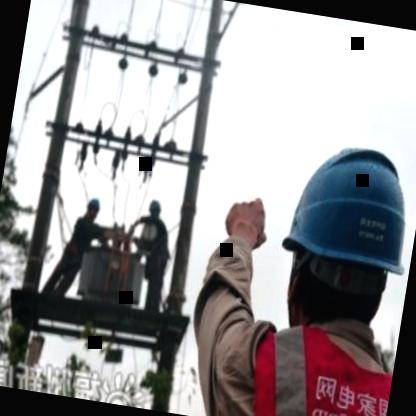helmet: (253, 107, 416, 369)
